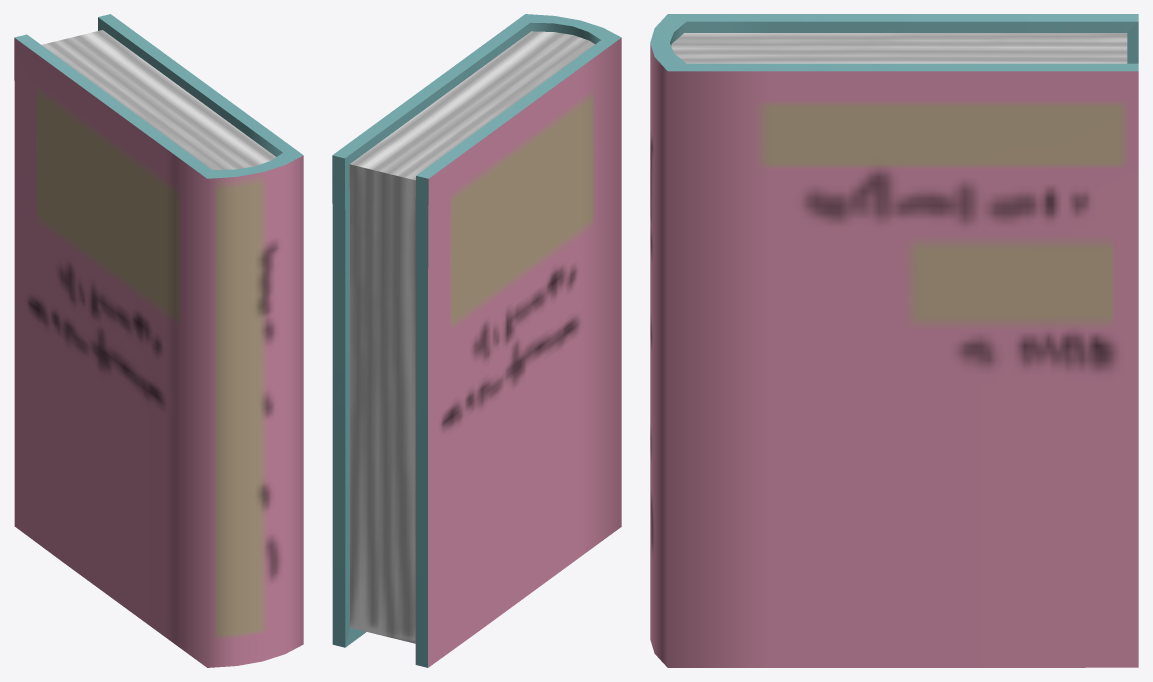
Rendered from Libros.obj.
3 renders of one model, left to right at view 1: azimuth 30°, elevation 25°; view 2: azimuth 150°, elevation 25°; view 3: azimuth 270°, elevation 25°, orthographic. The views are drawn at different scales.
Parts seen in each view (by area): view 1: Libros.obj; view 2: Libros.obj; view 3: Libros.obj.
Boxes of the visible parts, x1,y1,x2,y2 form: Libros.obj: (14,14,303,667); Libros.obj: (332,14,621,667); Libros.obj: (650,14,1138,667).
Bounding box in the file's own units: 0.1539 × 0.7465 × 0.554.
